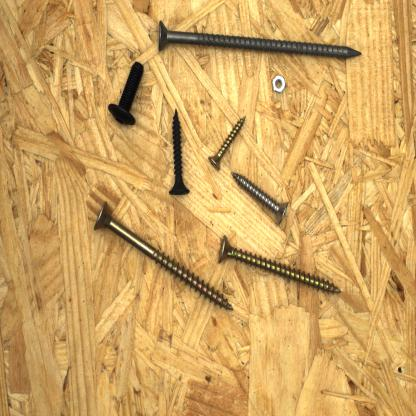screw: (92, 198, 237, 312), (156, 18, 363, 60), (215, 232, 343, 296), (229, 171, 292, 228), (106, 59, 147, 128), (166, 107, 193, 197), (208, 114, 248, 171)
